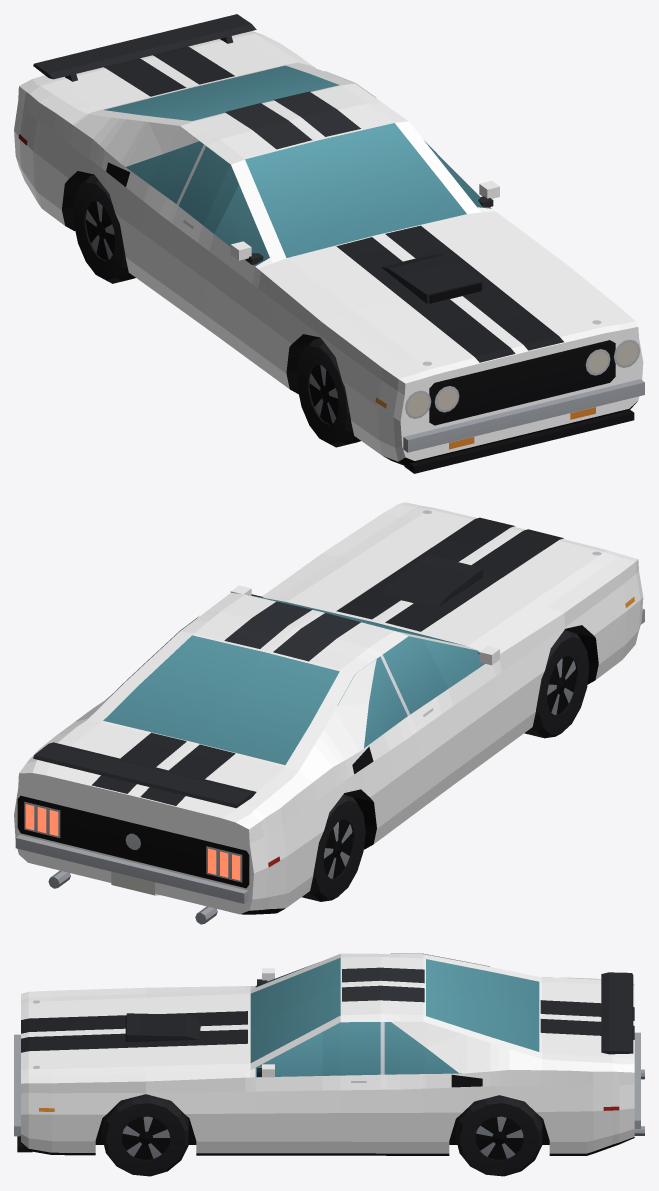
The model's file is Mustang.fbx.
3 views of the same model, one above another, from view 1: azimuth 30°, elevation 25°; view 2: azimuth 150°, elevation 25°; view 3: azimuth 270°, elevation 25° (orthographic). The views are drawn at different scales.
Parts seen in each view (by area): view 1: body, wheel-front-right, wheel-back-right; view 2: body, wheel-front-right, wheel-back-right; view 3: body, wheel-front-left, wheel-back-left.
Boxes of the visible parts, x1,y1,x2,y2 form: body: (14, 14, 644, 473); wheel-front-right: (297, 338, 360, 447); wheel-back-right: (73, 175, 135, 283); body: (14, 502, 644, 924); wheel-front-right: (524, 630, 589, 738); wheel-back-right: (302, 794, 365, 901); body: (14, 953, 644, 1155); wheel-front-left: (102, 1094, 188, 1176); wheel-back-left: (455, 1095, 542, 1176).
Size of the model in its own units: 1.85 by 1.27 by 4.89.
